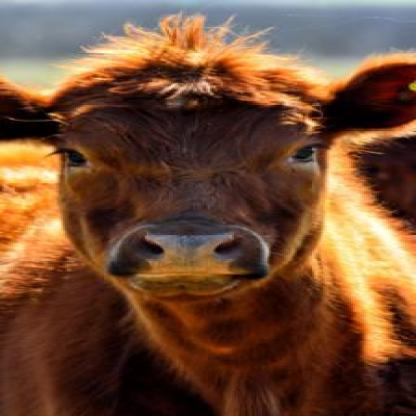lower: (130, 279, 235, 291)
mouth: (106, 221, 270, 296)
upper: (160, 242, 223, 266)
